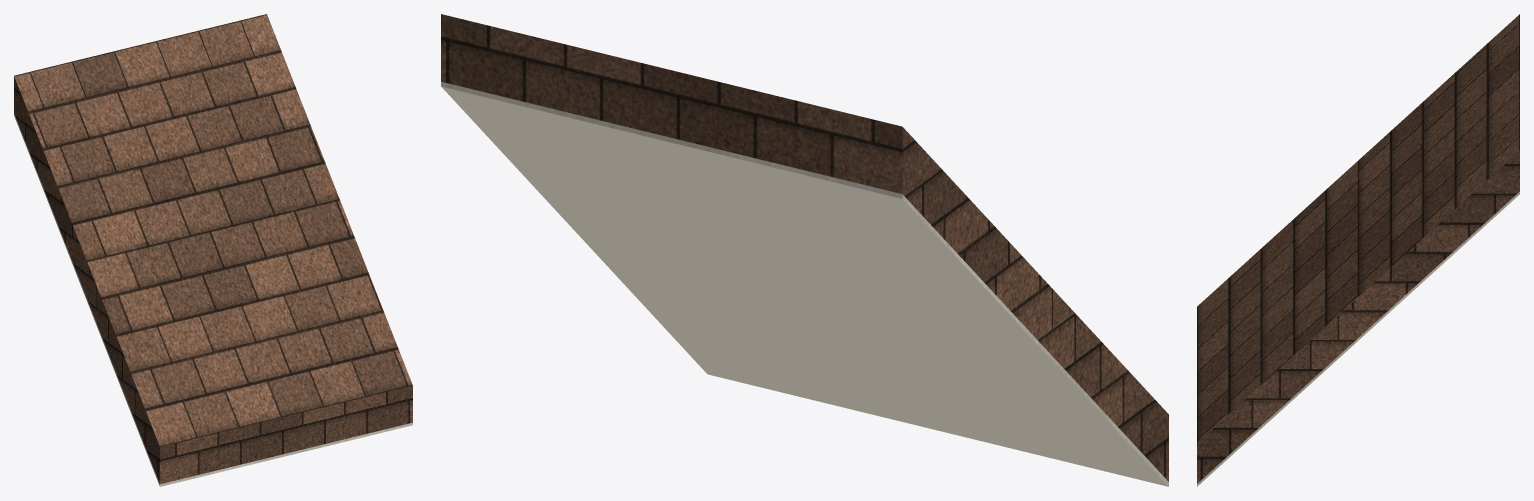
The model's file is roof_valley.glb.
The picture shows the model from 3 angles, left to right: view 1: azimuth 30°, elevation 25°; view 2: azimuth 150°, elevation 25°; view 3: azimuth 270°, elevation 25°; orthographic projection. The views are drawn at different scales.
Parts seen in each view (by area): view 1: roof_valley_shingle, roof_valley_plaster; view 2: roof_valley_plaster, roof_valley_shingle; view 3: roof_valley_shingle, roof_valley_plaster.
Boxes of the visible parts, x1=… form: roof_valley_shingle: x1=14, y1=14, x2=412, y2=484; roof_valley_plaster: x1=14, y1=113, x2=412, y2=486; roof_valley_plaster: x1=441, y1=81, x2=1168, y2=486; roof_valley_shingle: x1=441, y1=14, x2=1168, y2=481; roof_valley_shingle: x1=1197, y1=14, x2=1519, y2=483; roof_valley_plaster: x1=1197, y1=192, x2=1519, y2=486.
Bounding box in the file's own units: 2 × 2.3 × 2.
Materials: 2 (2 with a texture image).
